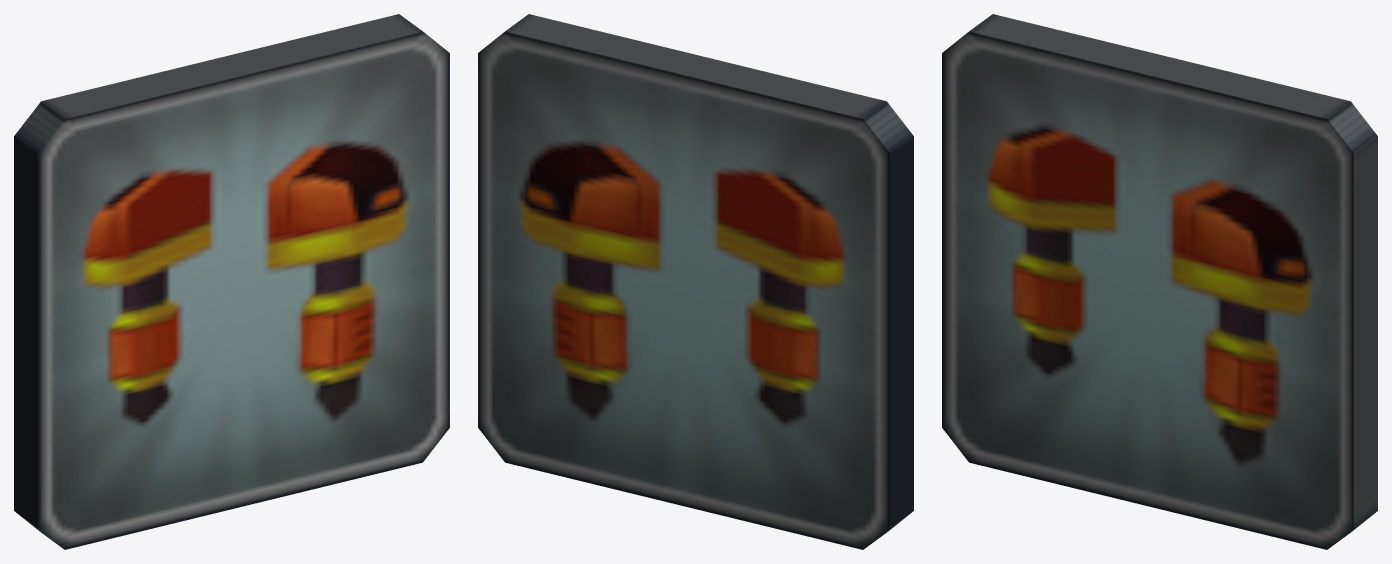
The model's file is item_HandsSuitB.FBX.
3 renders of one model, left to right at view 1: azimuth 30°, elevation 25°; view 2: azimuth 150°, elevation 25°; view 3: azimuth 330°, elevation 25°, orthographic.
Parts seen in each view (by area): view 1: item_HandsSuitB; view 2: item_HandsSuitB; view 3: item_HandsSuitB.
Boxes of the visible parts, x1,y1,x2,y2 form: item_HandsSuitB: (14,14,449,549); item_HandsSuitB: (478,14,913,549); item_HandsSuitB: (942,14,1377,549).
Size of the model in its own units: 111 by 11.09 by 111.
